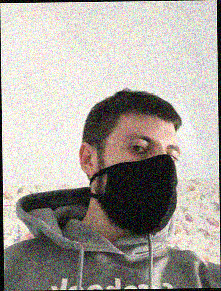with_mask: (101, 130, 181, 237)
